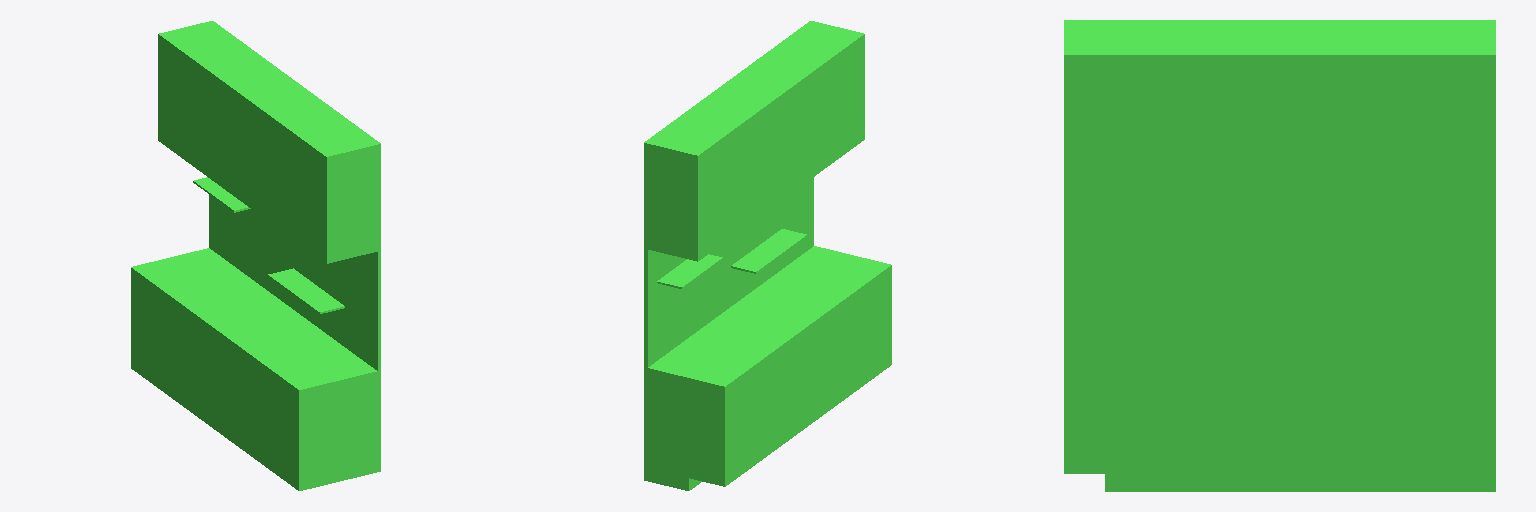
The robot description file, URDF, robot "cabinet.urdf":
<?xml version="1.0" ?>
<robot name="cabinet.urdf">
  <link concave="yes" name="baseLink">
    <inertial>
      <origin rpy="0 0 0" xyz="0.0 0.0 0.0"/>
       <mass value=".0"/>
       <inertia ixx="0" ixy="0" ixz="0" iyy="0" iyz="0" izz="0"/>
    </inertial>

    <visual>
      <origin rpy="1.57075 0 0" xyz="0 0 0"/>
      <geometry>
        <mesh filename="cabinet.obj" scale=".1 .1 .1"/>
      </geometry>
       <material name="blue">
        <color rgba="0.4 1 0.4 1"/>
      </material>
    </visual>

    <collision concave="yes">
      <origin rpy="1.57075 0 0" xyz="0 0 0"/>
      <geometry>
	 	    <mesh filename="cabinet.obj" scale=".1 .1 .1"/>
      </geometry>
    </collision>
  </link>
</robot>

--- Facts derived from the render (not from the file) ---
The picture shows the robot from 3 angles, left to right: view 1: azimuth 30°, elevation 25°; view 2: azimuth 150°, elevation 25°; view 3: azimuth 270°, elevation 25°; orthographic projection.
Model cabinet.urdf with 1 links and 0 joints (none), rooted at baseLink, posed every joint at zero.
Visible links, largest first — view 1: baseLink; view 2: baseLink; view 3: baseLink.
Link boxes in pixels (left/top/right/bottom): baseLink: left=131, top=21, right=380, bottom=490; baseLink: left=644, top=21, right=891, bottom=490; baseLink: left=1064, top=20, right=1495, bottom=491.
Size in the robot's own frame: 1.77 by 6.3 by 7.04 metres.
1 mesh visuals loaded from 1 distinct referenced files (1 OBJ).